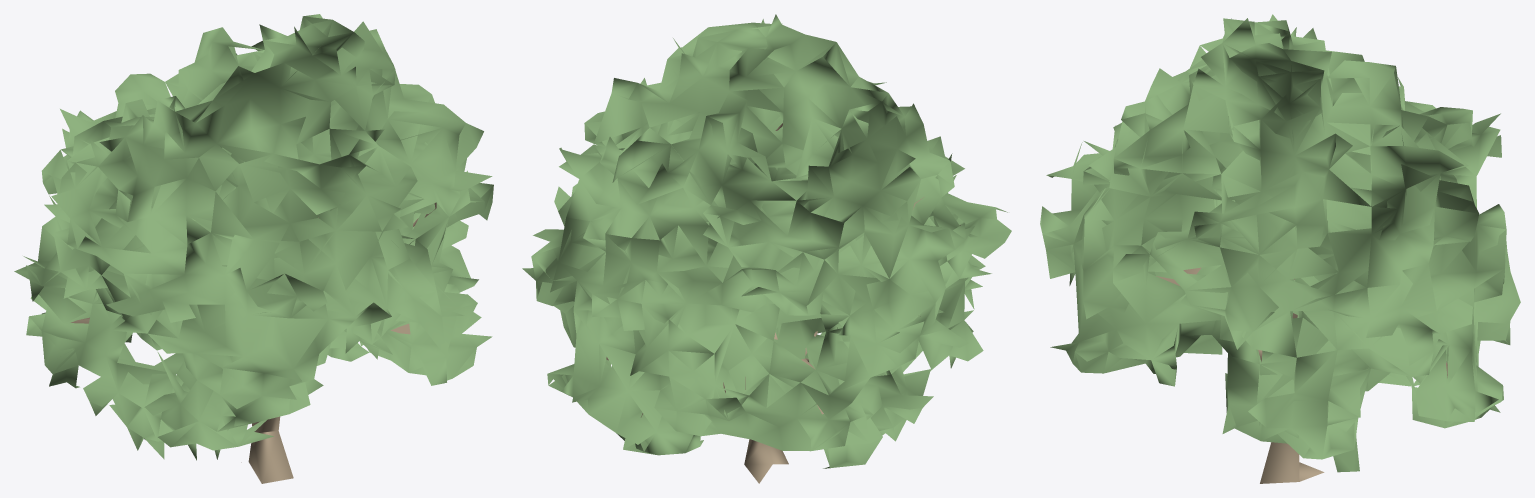
Rendered from mango.glb.
3 renders of one model, left to right at view 1: azimuth 30°, elevation 25°; view 2: azimuth 150°, elevation 25°; view 3: azimuth 270°, elevation 25°, orthographic. The views are drawn at different scales.
Size of the model in its own units: 6.19 by 6.75 by 6.33.
